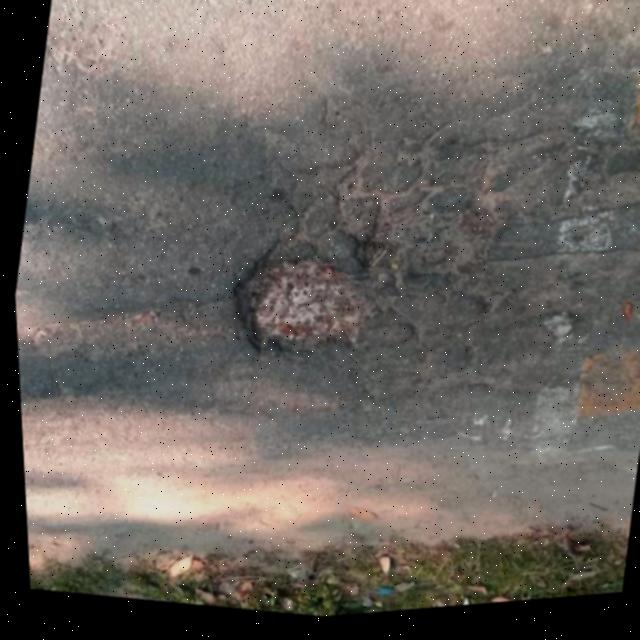Pothole: (209, 240, 389, 385), (342, 189, 509, 306)
